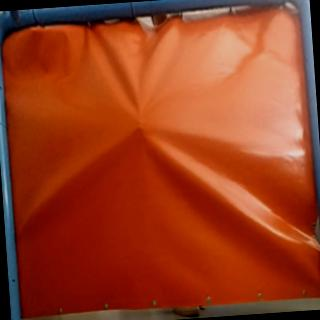Hit-hRxx: (134, 122, 146, 131)
